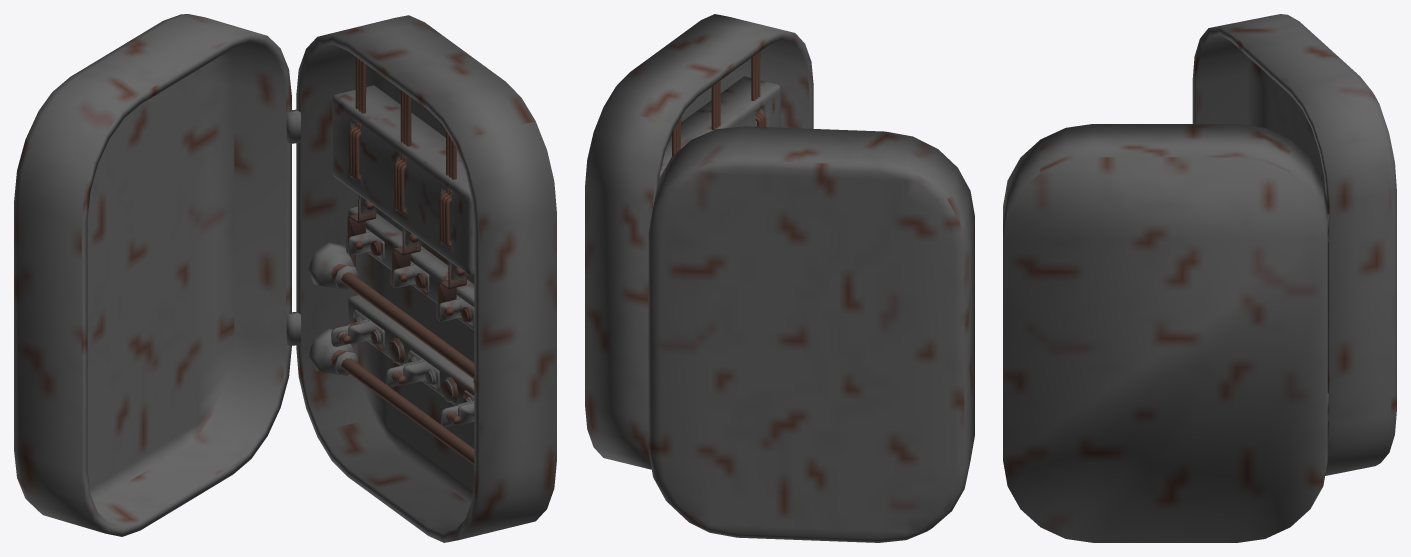
File: schetchik.fbx
3 renders of one model, left to right at view 1: azimuth 30°, elevation 25°; view 2: azimuth 150°, elevation 25°; view 3: azimuth 270°, elevation 25°, orthographic. The views are drawn at different scales.
Parts seen in each view (by area): view 1: Cube.053; view 2: Cube.053; view 3: Cube.053.
Part boxes in pixels (<box>): Cube.053: <box>14,14,556,542</box>; Cube.053: <box>585,14,974,542</box>; Cube.053: <box>1003,14,1396,542</box>.
Size of the model in its own units: 178 by 187 by 173.
